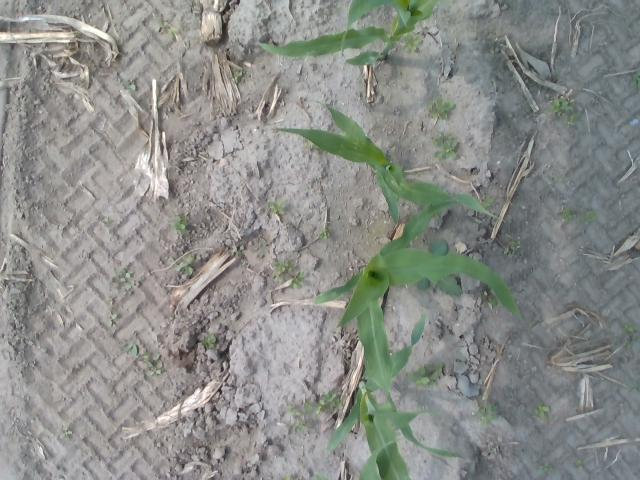Maize: (311, 201, 470, 461), (274, 98, 506, 223), (324, 315, 472, 480), (256, 0, 440, 66), (312, 436, 404, 480)
Weeds: (416, 273, 464, 297), (406, 361, 444, 388), (547, 96, 578, 126), (432, 130, 458, 160), (426, 97, 456, 121), (315, 390, 343, 413), (141, 351, 166, 376), (169, 253, 194, 276), (474, 403, 499, 426), (154, 18, 178, 40), (110, 267, 132, 290), (272, 260, 294, 283), (401, 30, 422, 52), (483, 288, 502, 309), (172, 214, 190, 234), (426, 239, 448, 255), (532, 402, 550, 421), (576, 209, 598, 223), (290, 270, 306, 289), (118, 341, 138, 356), (560, 206, 576, 224), (304, 139, 324, 153), (202, 332, 216, 350), (268, 200, 286, 214), (630, 70, 640, 94), (504, 241, 521, 254), (286, 404, 302, 417), (621, 322, 639, 333), (294, 418, 308, 432), (102, 313, 116, 326), (479, 197, 494, 209), (59, 427, 72, 440), (122, 79, 137, 90), (538, 464, 554, 474), (229, 245, 244, 255), (318, 228, 330, 240), (304, 402, 314, 416), (234, 70, 244, 84), (622, 340, 633, 351), (574, 458, 584, 470), (552, 174, 564, 183), (524, 318, 536, 326), (102, 215, 112, 224), (282, 474, 290, 480)
